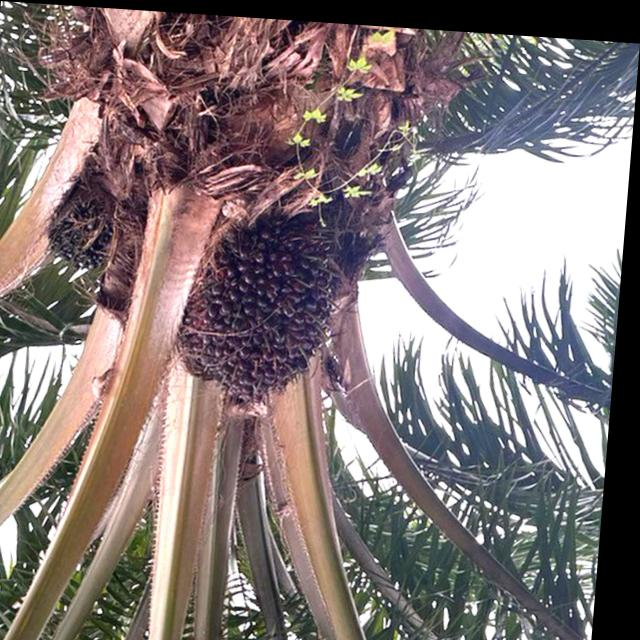ripe: (180, 208, 352, 415)
